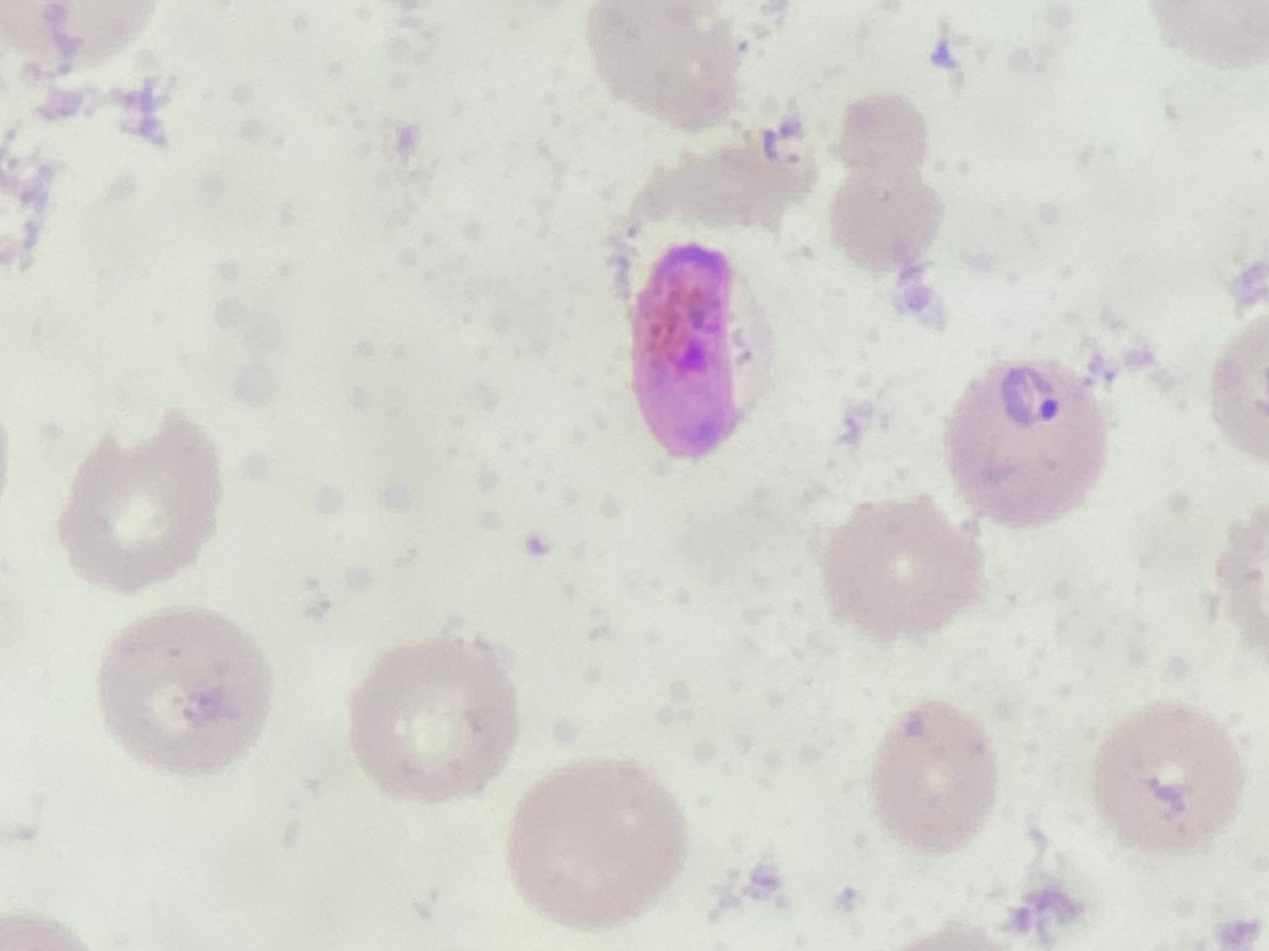Infected: (632, 243, 774, 456), (947, 353, 1107, 531)
Uninfected: (511, 759, 690, 928), (64, 415, 226, 592), (90, 604, 266, 765), (350, 635, 520, 799), (822, 494, 988, 640), (872, 692, 1002, 853), (1097, 706, 1241, 849)
